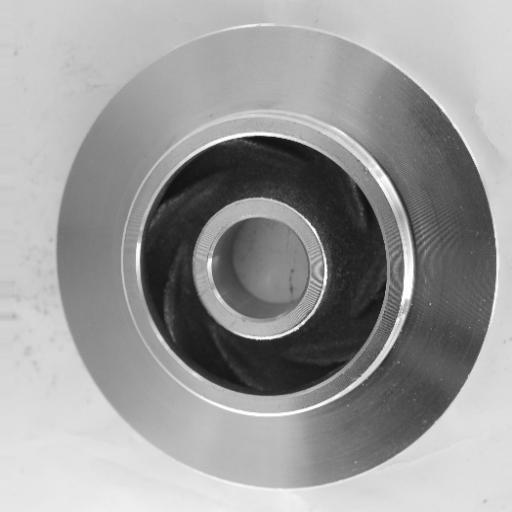polished_casting: (53, 20, 498, 493)
